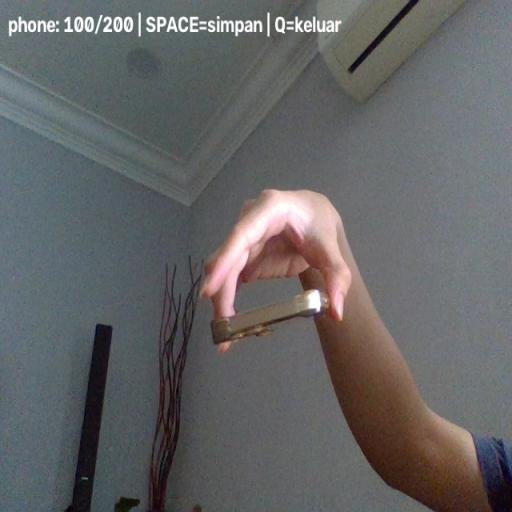Phone: (210, 288, 330, 346)
